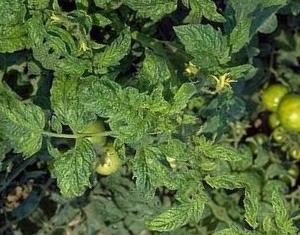Tomato leaf yellow virus: (70, 58, 156, 144), (160, 2, 246, 88), (35, 130, 115, 210), (118, 38, 197, 116), (0, 84, 63, 172), (79, 16, 148, 86), (139, 181, 208, 235), (117, 0, 182, 34)
